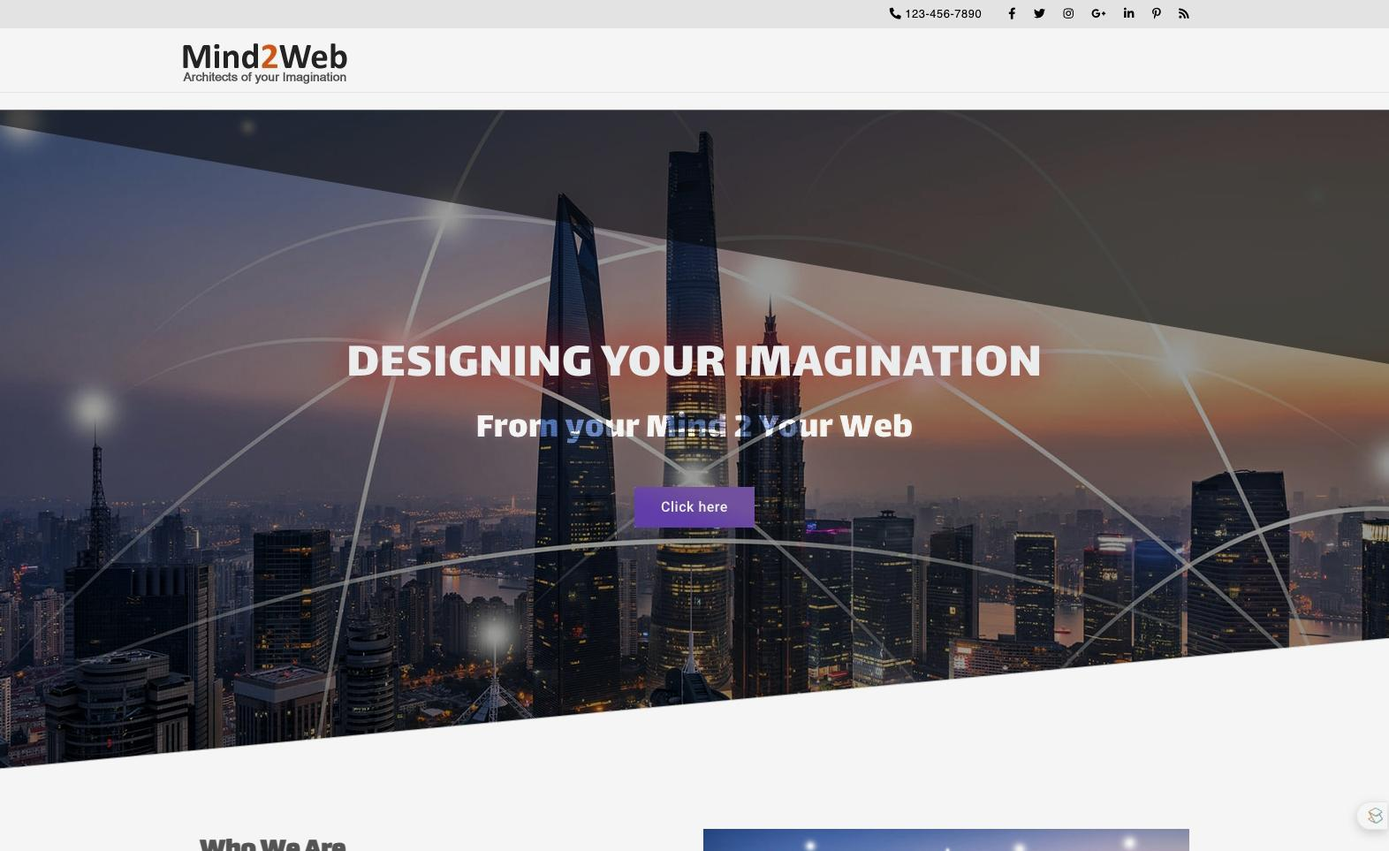webelement: (0, 92, 1388, 851), (634, 486, 754, 527), (889, 6, 982, 19), (660, 499, 727, 513)
